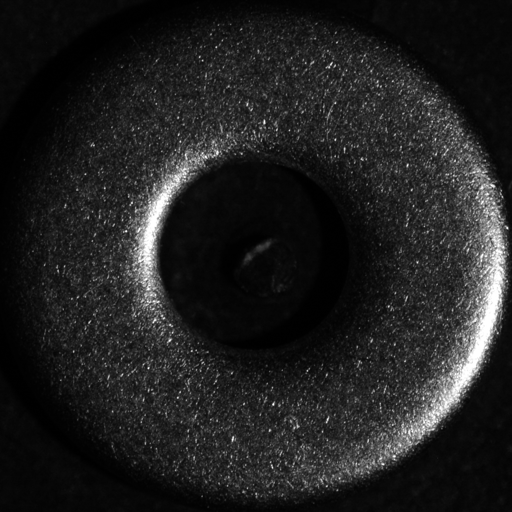washer: (9, 16, 498, 502)
